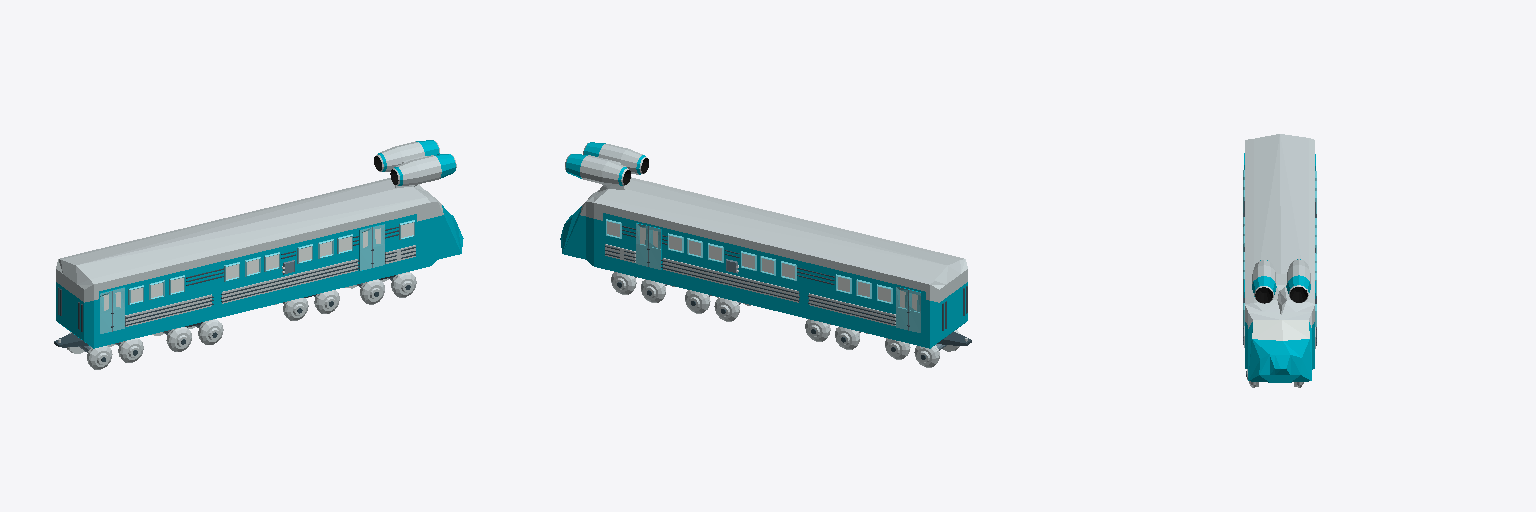
3 views of the same model, side by side, from view 1: azimuth 30°, elevation 25°; view 2: azimuth 150°, elevation 25°; view 3: azimuth 270°, elevation 25° (orthographic).
Parts seen in each view (by area): view 1: group[number redacted], group[number redacted], group[number redacted], group[number redacted], group[number redacted], group[number redacted], group[number redacted], group[number redacted]; view 2: group[number redacted], group[number redacted], group[number redacted], group[number redacted], group[number redacted], group[number redacted], group[number redacted], group[number redacted]; view 3: group[number redacted], group[number redacted], group[number redacted].
Part boxes in pixels (x1,y1,x2,y2): group[number redacted]: (56, 178, 463, 348); group[number redacted]: (100, 220, 415, 333); group[number redacted]: (390, 154, 456, 185); group[number redacted]: (67, 332, 143, 369); group[number redacted]: (374, 140, 439, 171); group[number redacted]: (152, 319, 223, 351); group[number redacted]: (345, 272, 416, 304); group[number redacted]: (275, 290, 339, 320); group[number redacted]: (560, 177, 967, 348); group[number redacted]: (605, 219, 920, 332); group[number redacted]: (565, 154, 630, 185); group[number redacted]: (583, 142, 648, 174); group[number redacted]: (885, 330, 959, 367); group[number redacted]: (685, 290, 750, 321); group[number redacted]: (611, 272, 674, 302); group[number redacted]: (805, 319, 867, 349); group[number redacted]: (1245, 134, 1314, 382); group[number redacted]: (1252, 260, 1276, 303); group[number redacted]: (1286, 259, 1310, 302).
Size of the model in its own units: 4.72 by 1.46 by 0.7614.